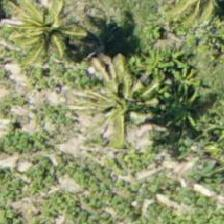coconut_tree: (89, 55, 179, 145), (15, 0, 105, 80)
